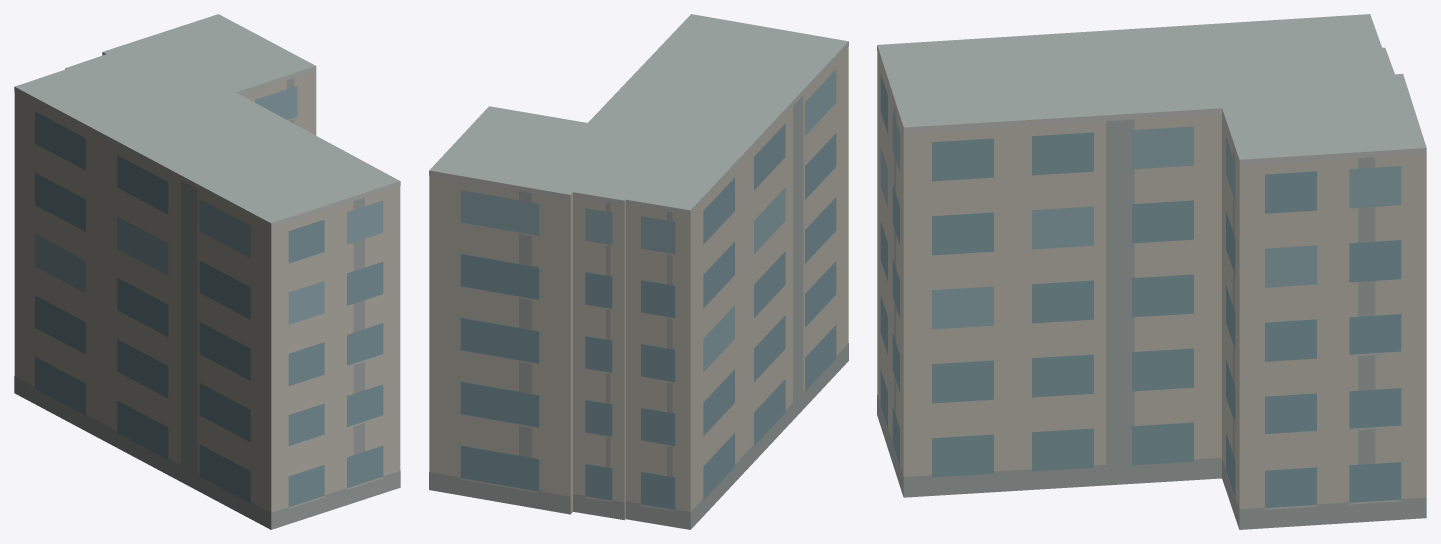
The model's file is survey-upis-32807552.glb.
3 views of the same model, side by side, from view 1: azimuth 30°, elevation 25°; view 2: azimuth 150°, elevation 25°; view 3: azimuth 270°, elevation 25° (orthographic). The views are drawn at different scales.
Parts seen in each view (by area): view 1: survey-upis-32807552.tmp; view 2: survey-upis-32807552.tmp; view 3: survey-upis-32807552.tmp.
Part boxes in pixels (box(x1,y1,x2,y2)): survey-upis-32807552.tmp: box(14, 14, 400, 529); survey-upis-32807552.tmp: box(429, 14, 848, 529); survey-upis-32807552.tmp: box(877, 14, 1426, 529).
Size of the model in its own units: 12.85 by 15.2 by 20.47.
